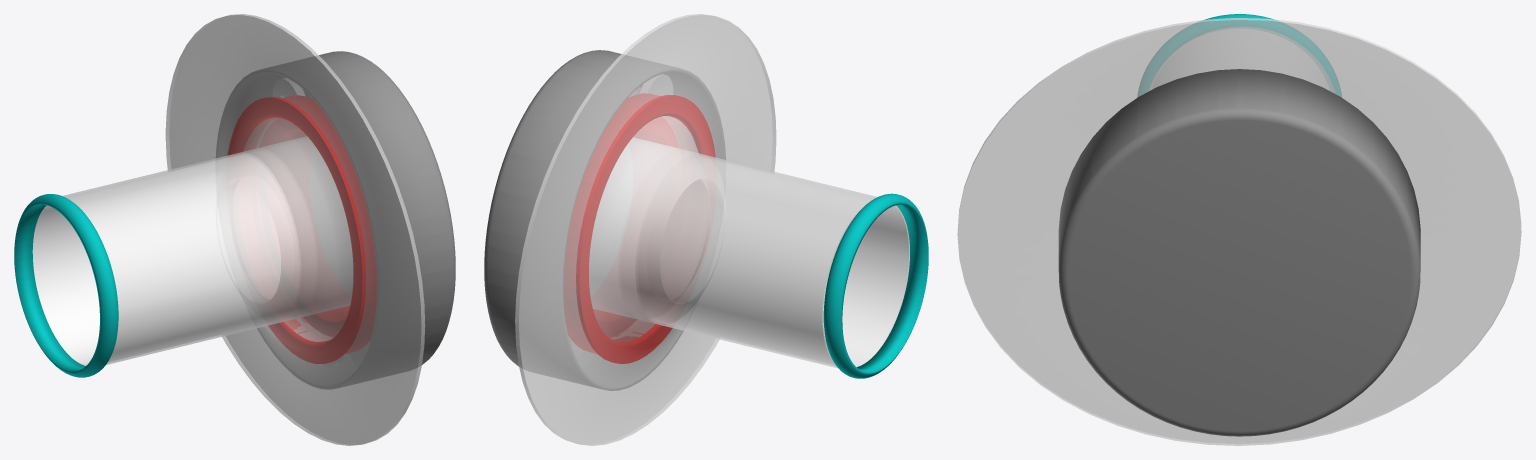
The model's file is finalContinentAnimated.glb.
3 renders of one model, left to right at view 1: azimuth 30°, elevation 25°; view 2: azimuth 150°, elevation 25°; view 3: azimuth 270°, elevation 25°, orthographic. The views are drawn at different scales.
Visible parts, largest first — view 1: Separator.002, Separator, Separator.005, Separator.004, Separator.006, Separator.003; view 2: Separator.002, Separator, Separator.005, Separator.004, Separator.006, Separator.003; view 3: Separator.005, Separator.002, Separator, Separator.006.
Boxes of the visible parts, x1=… form: Separator.002: x1=165, y1=14, x2=425, y2=445; Separator: x1=32, y1=137, x2=352, y2=365; Separator.005: x1=216, y1=51, x2=455, y2=389; Separator.004: x1=228, y1=95, x2=376, y2=363; Separator.006: x1=14, y1=194, x2=118, y2=377; Separator.003: x1=273, y1=78, x2=369, y2=366; Separator.002: x1=515, y1=14, x2=776, y2=445; Separator: x1=589, y1=138, x2=909, y2=368; Separator.005: x1=484, y1=50, x2=725, y2=390; Separator.004: x1=563, y1=93, x2=715, y2=363; Separator.006: x1=823, y1=193, x2=928, y2=378; Separator.003: x1=569, y1=74, x2=672, y2=368; Separator.005: x1=1058, y1=69, x2=1420, y2=436; Separator.002: x1=957, y1=18, x2=1521, y2=445; Separator: x1=1149, y1=27, x2=1334, y2=92; Separator.006: x1=1137, y1=14, x2=1341, y2=97.
Bounding box in the file's own units: 86.5 × 100 × 120.
